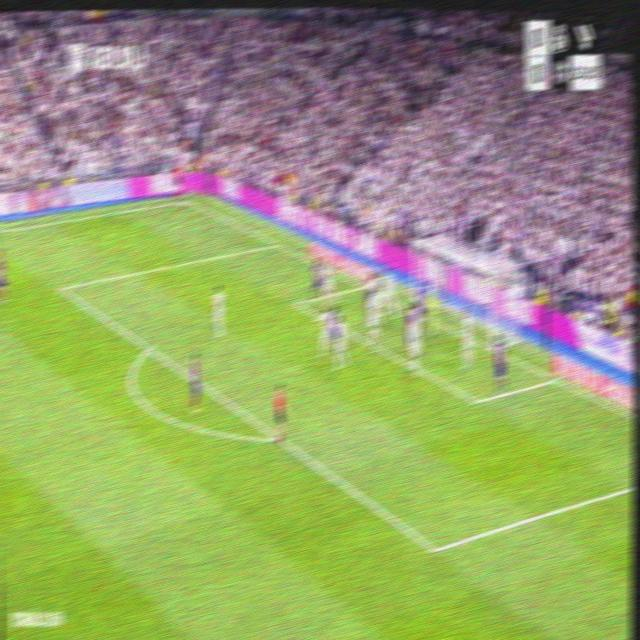bigarea_bottom_inner: (425, 533, 444, 564)
bigarea_top_inner: (56, 279, 66, 296)
bigarea_top_outter: (270, 236, 282, 250)
corner: (184, 196, 193, 203)
smallarea_bottom_inner: (470, 390, 483, 411)
smallarea_bottom_outter: (548, 371, 562, 386)
smallarea_top_inner: (293, 296, 301, 307)
smallarea_top_outter: (358, 280, 367, 292)
top_arc_area_intersection: (142, 338, 156, 357)
